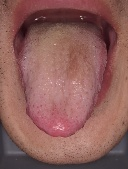tongue: (14, 26, 109, 139)
